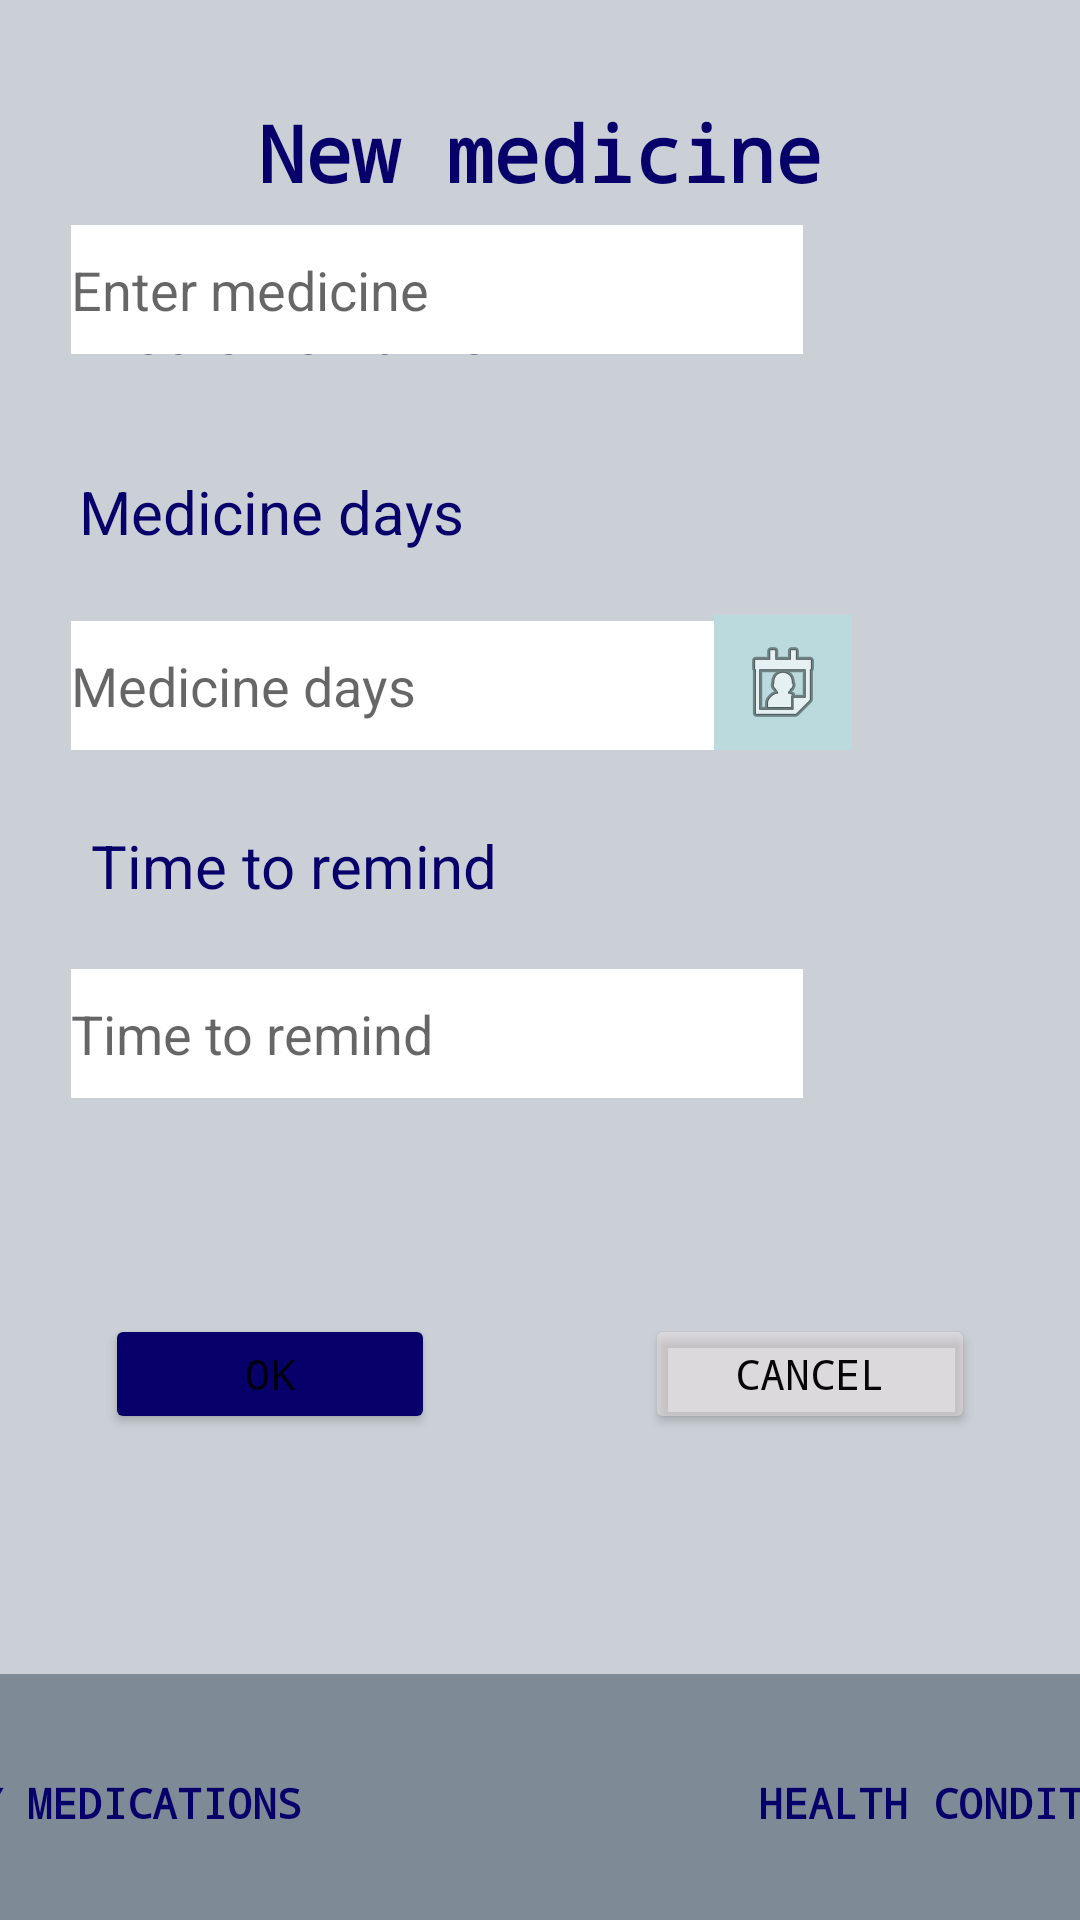

Where icons sit on this 1080 x 1920 app screen, as (x1, y1, x2, y2):
calendar: (752, 647, 814, 717)
